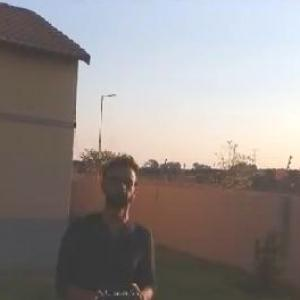follow: (50, 150, 161, 299)
